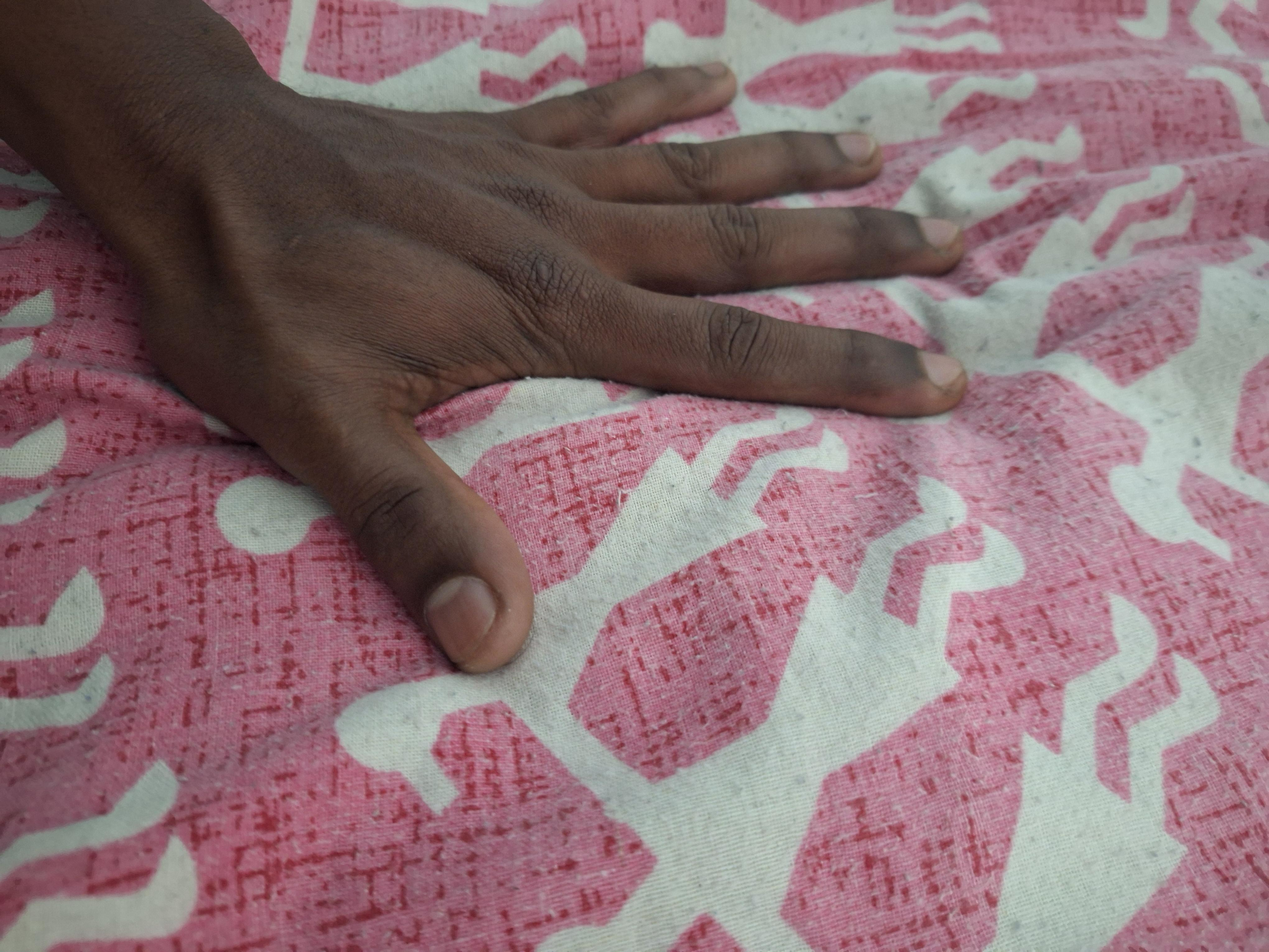Fingernail: (425, 577, 498, 663), (922, 351, 962, 385), (836, 133, 875, 166), (922, 219, 959, 251), (701, 62, 725, 77)
